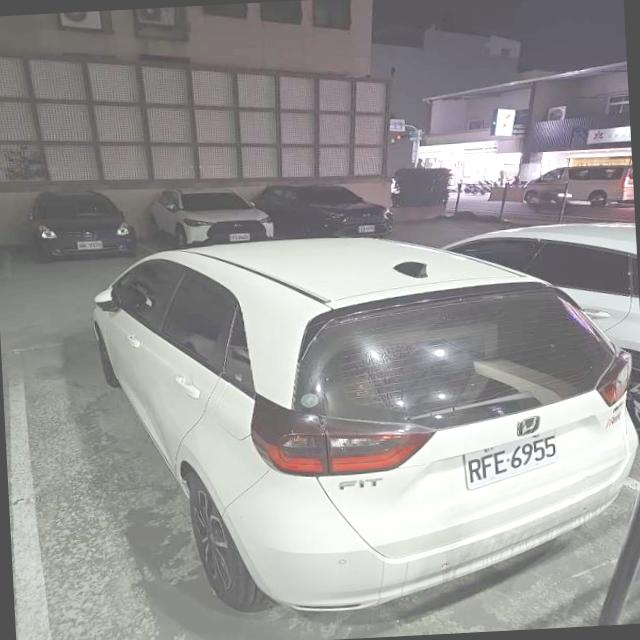license plate: (466, 432, 558, 489)
wheel: (186, 474, 264, 611)
